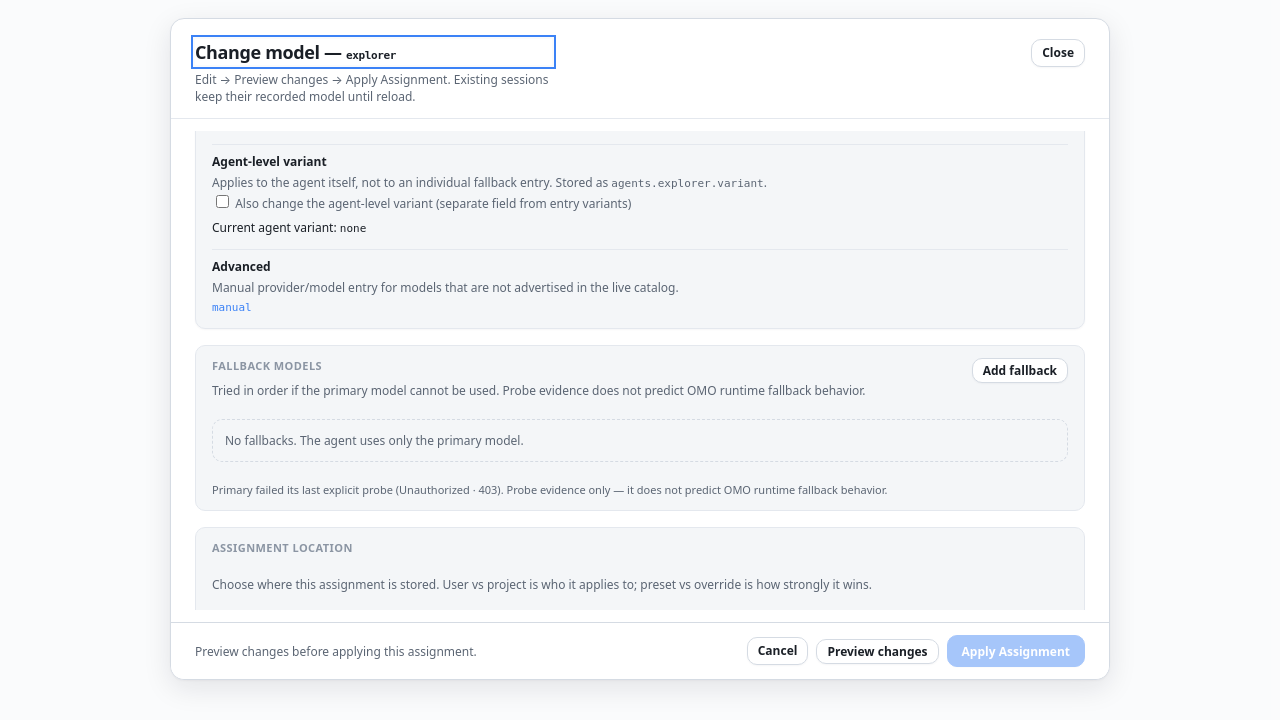
probe integration — agent editor (slice 15 §75) › chain summary reports primary failure and healthy fallback with disclaimer
(page scrolled)
Click the button "Add fallback". click: click(1020, 370)
box: [972,358,1068,383]
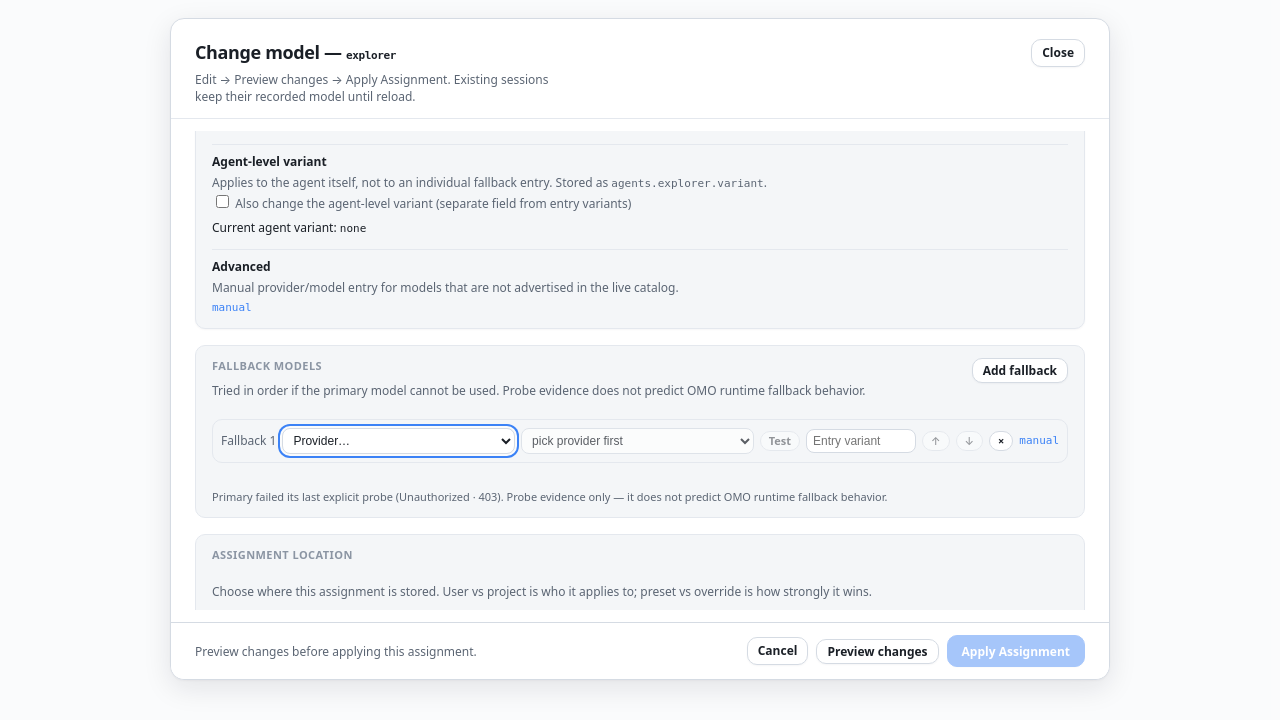
Select "OpenAI (openai) — 1 models" in the dropdown named "Fallback 1 provider". click: (399, 441)
box: [282,428,515,454]
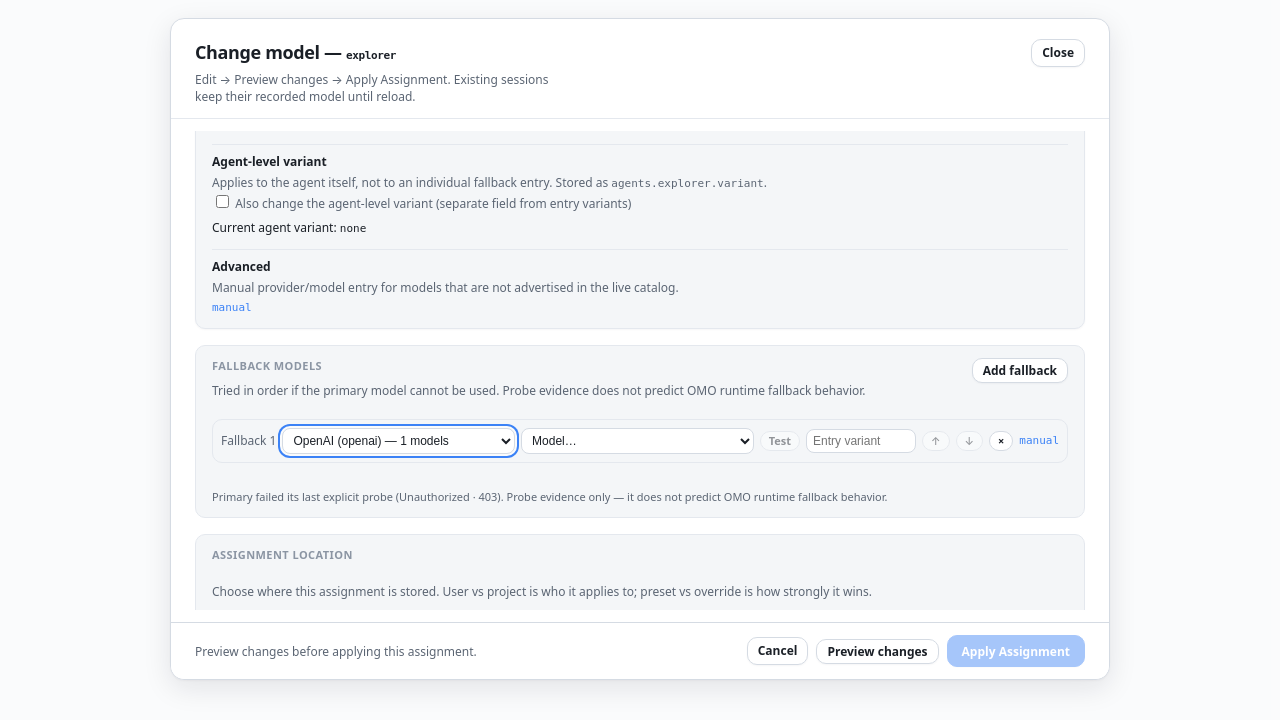
Select "gpt-5 — GPT-5" in the dropdown named "Fallback 1 model". click: (637, 441)
box: [521,428,754,454]
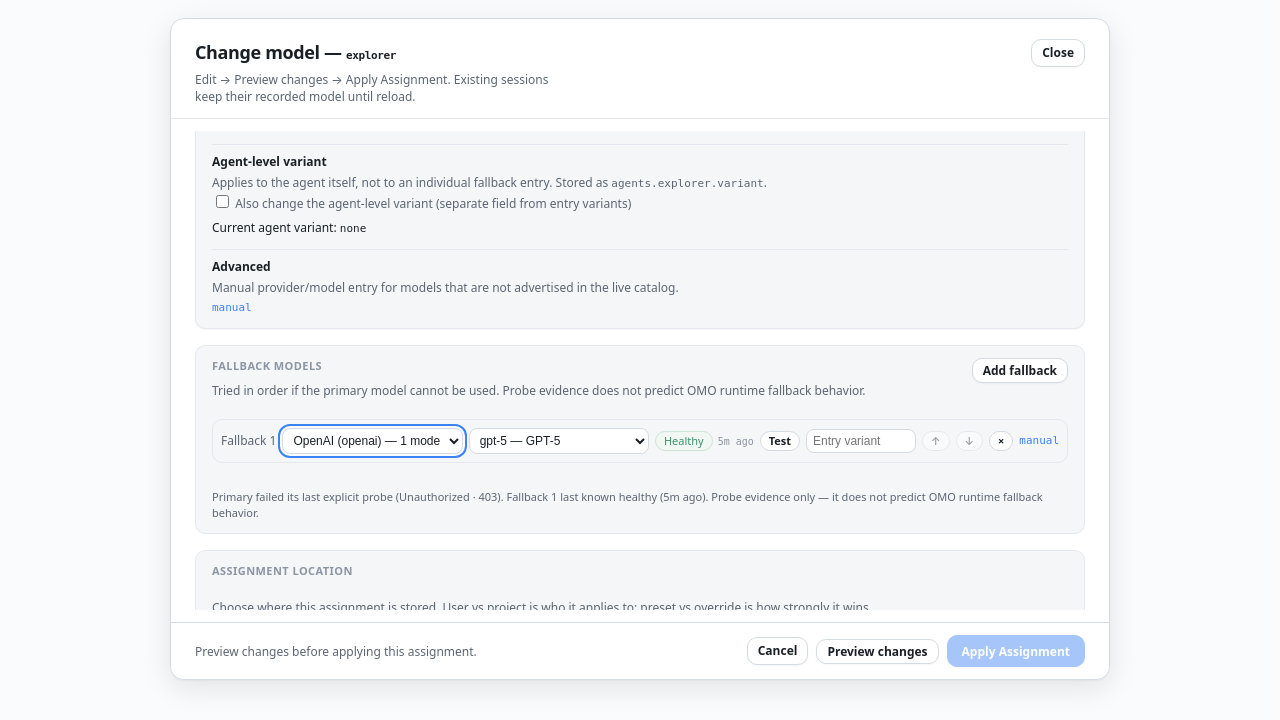
Check: the text "Fallback 1 last known healthy" shows "does not predict OMO runtime fallback behavior", box [212,489,1043,520]
Check: the text "Healthy" is shown, box [655,431,713,451]
Check: the text "Fallback 1 last known healthy" is shown, box [212,489,708,504]
